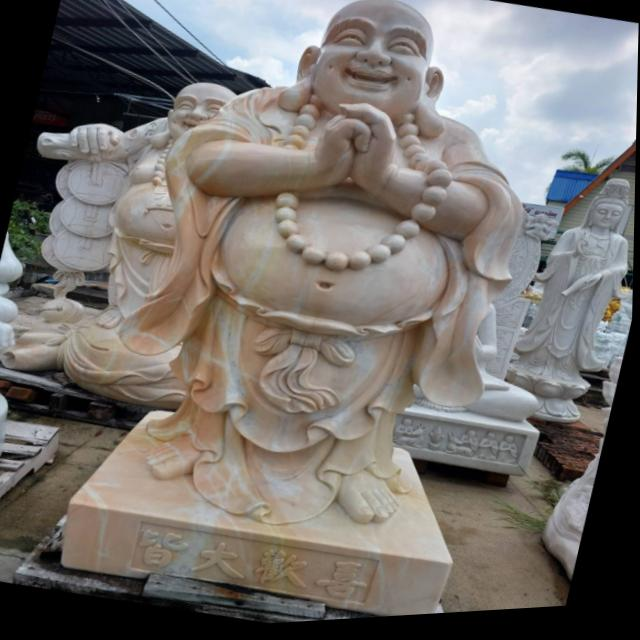Smiling Buddha: (116, 0, 550, 536)
